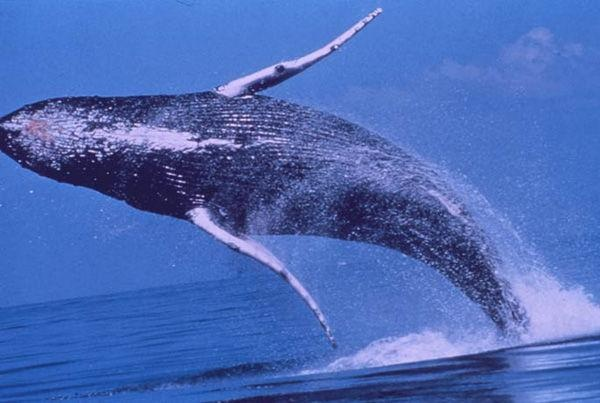fish: (2, 7, 532, 342)
